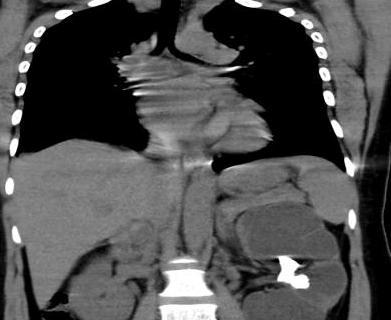Tas_Var: (275, 253, 314, 294)
